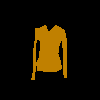maglia: (30, 24, 67, 80)
